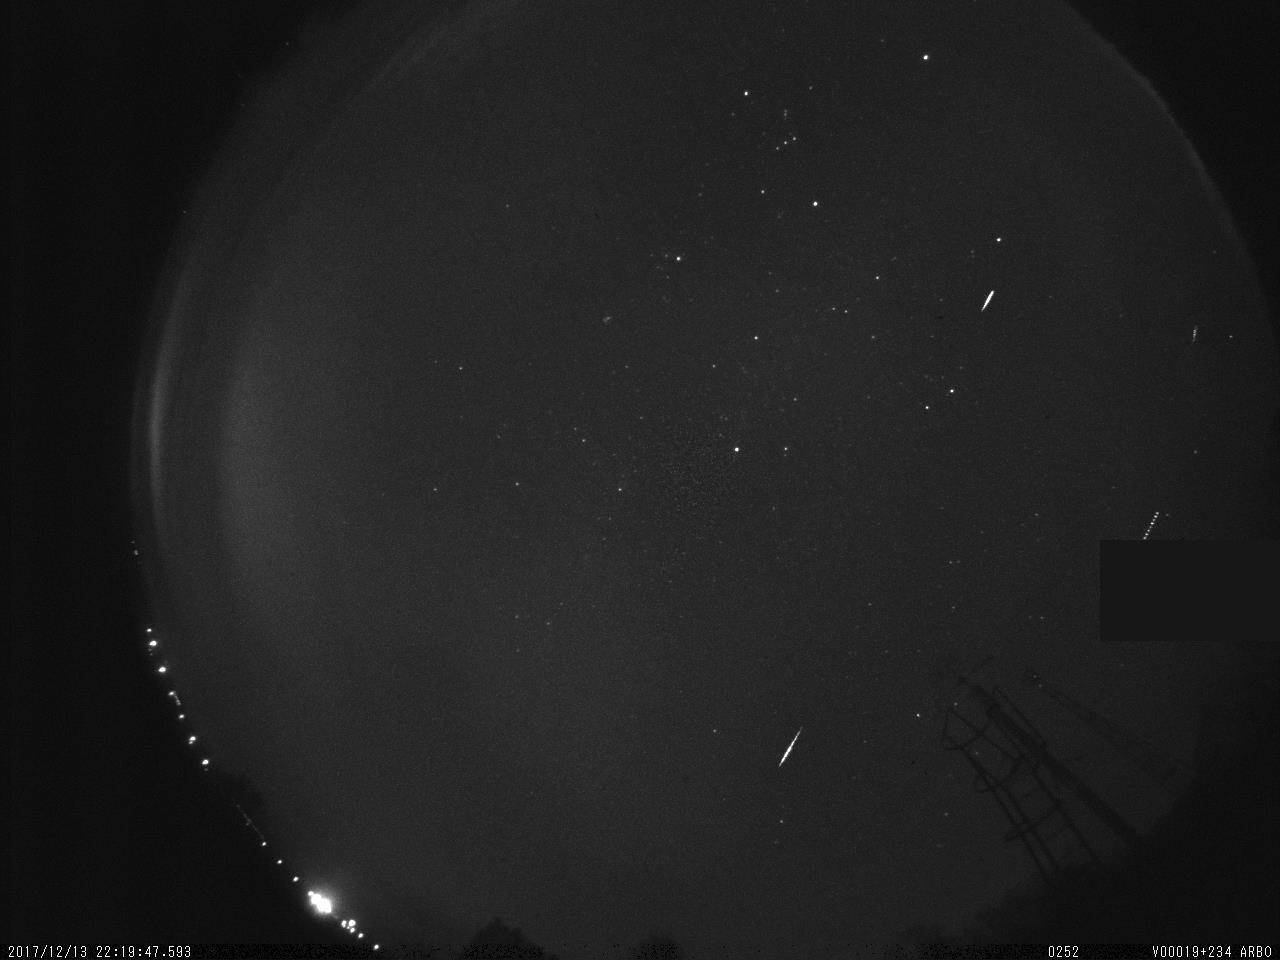meteor: (771, 717, 810, 777)
